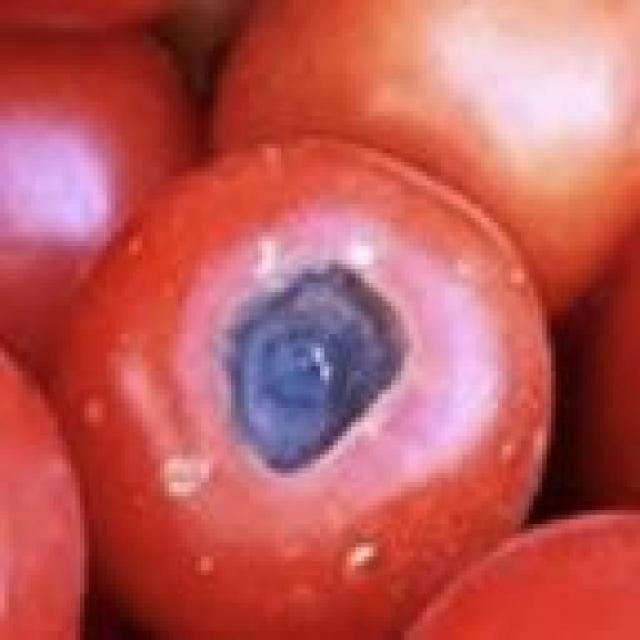Blossom End Rot Fruit: (138, 168, 277, 317)
